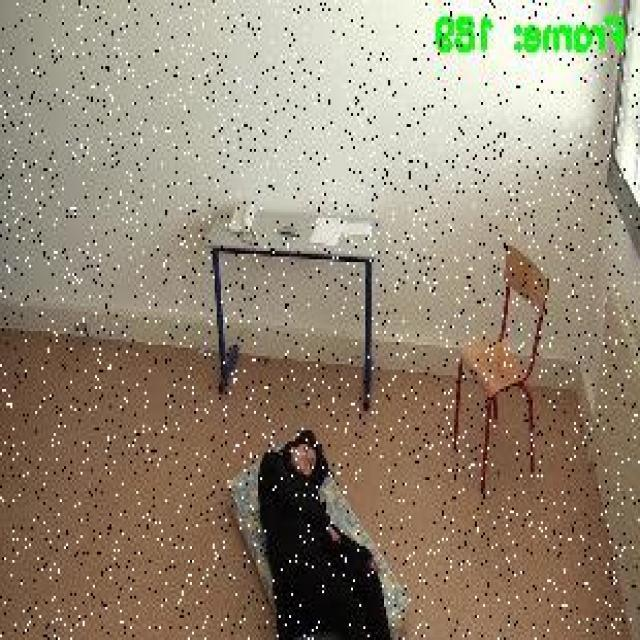fall: (246, 420, 398, 638)
